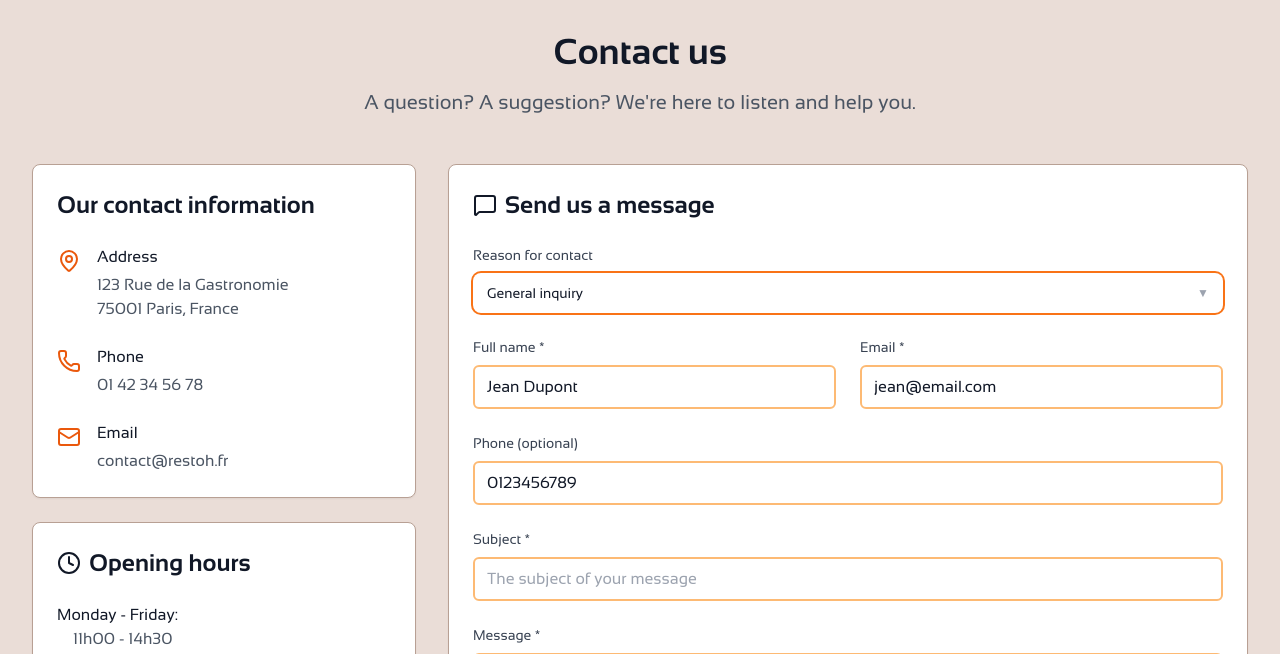
Test: Contact Component › should change contact reason when user selects different option
# Click to open dropdown
Click the text "General inquiry": coordinates (541, 293) [487,283,595,303]
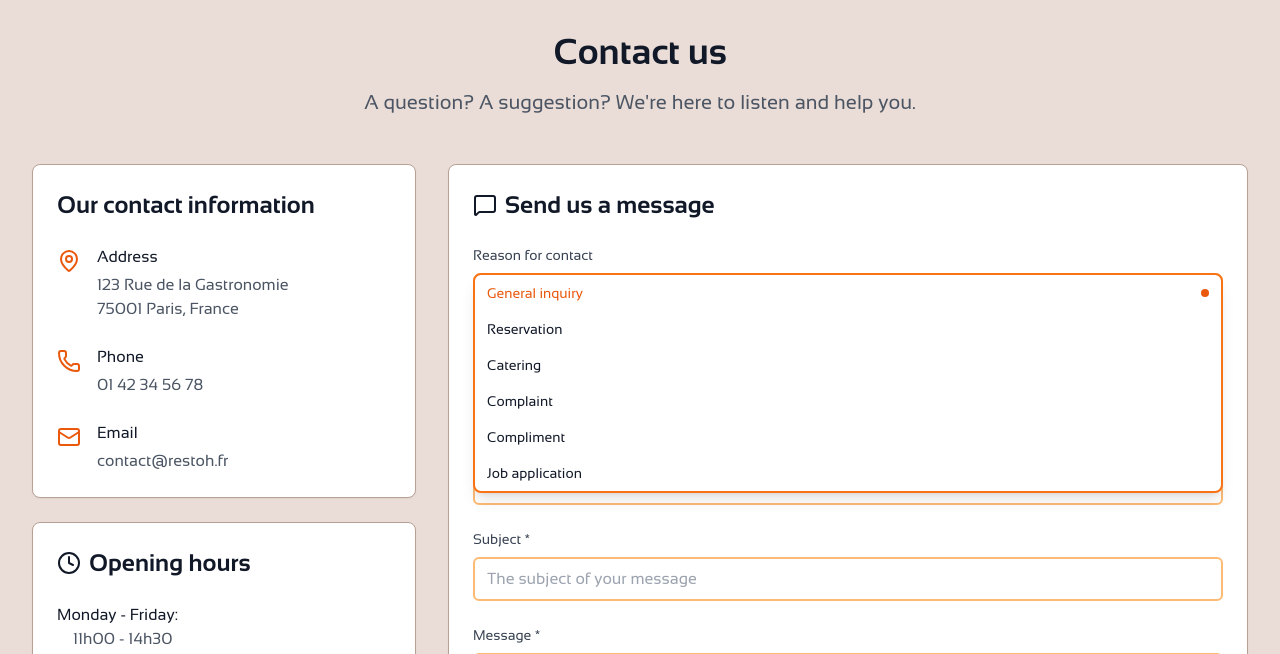
# Select reservation option
Click the text "Reservation": coordinates (525, 329) [487,319,562,339]
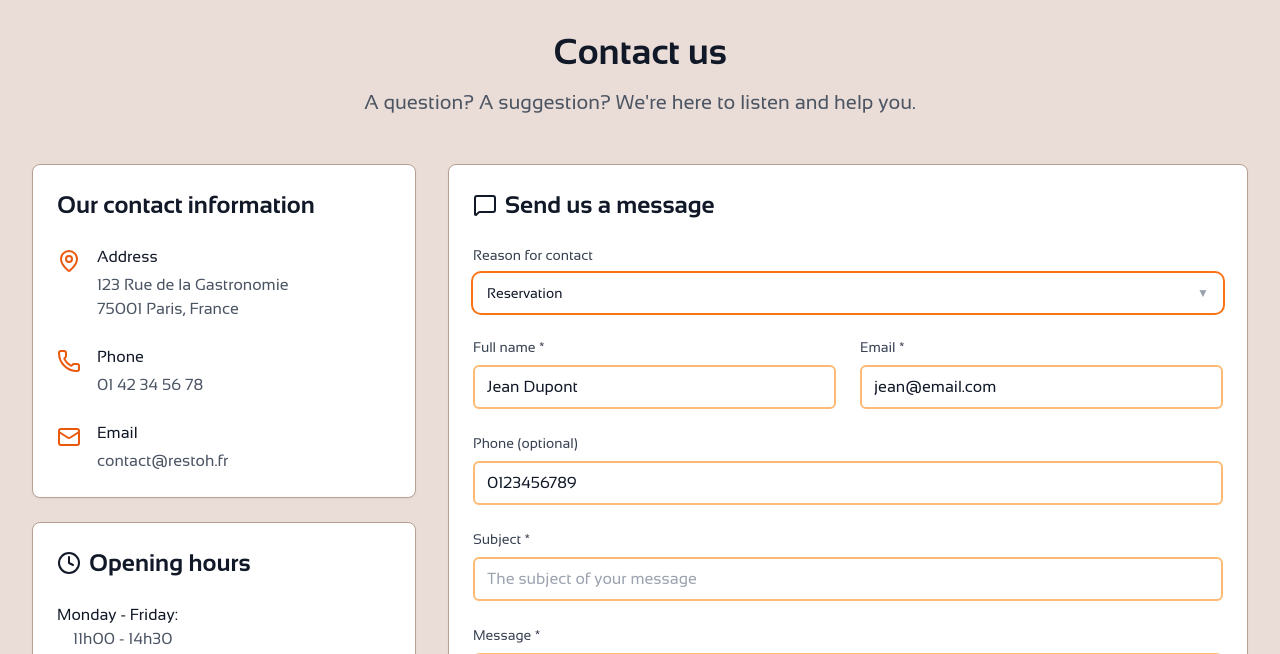
Result: the text "Reservation" is shown
# Click to open dropdown again
Click the text "Reservation": coordinates (531, 293) [487,283,574,303]
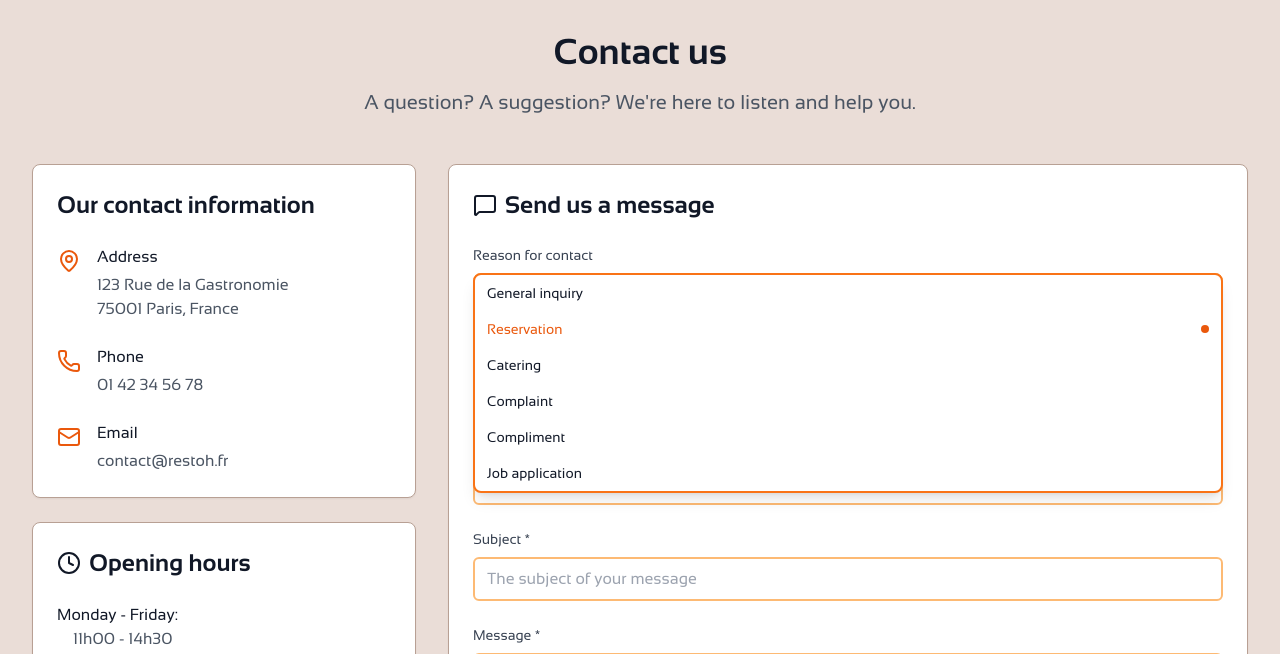
# Select complaint
Click the text "Complaint": coordinates (520, 401) [487,391,553,411]
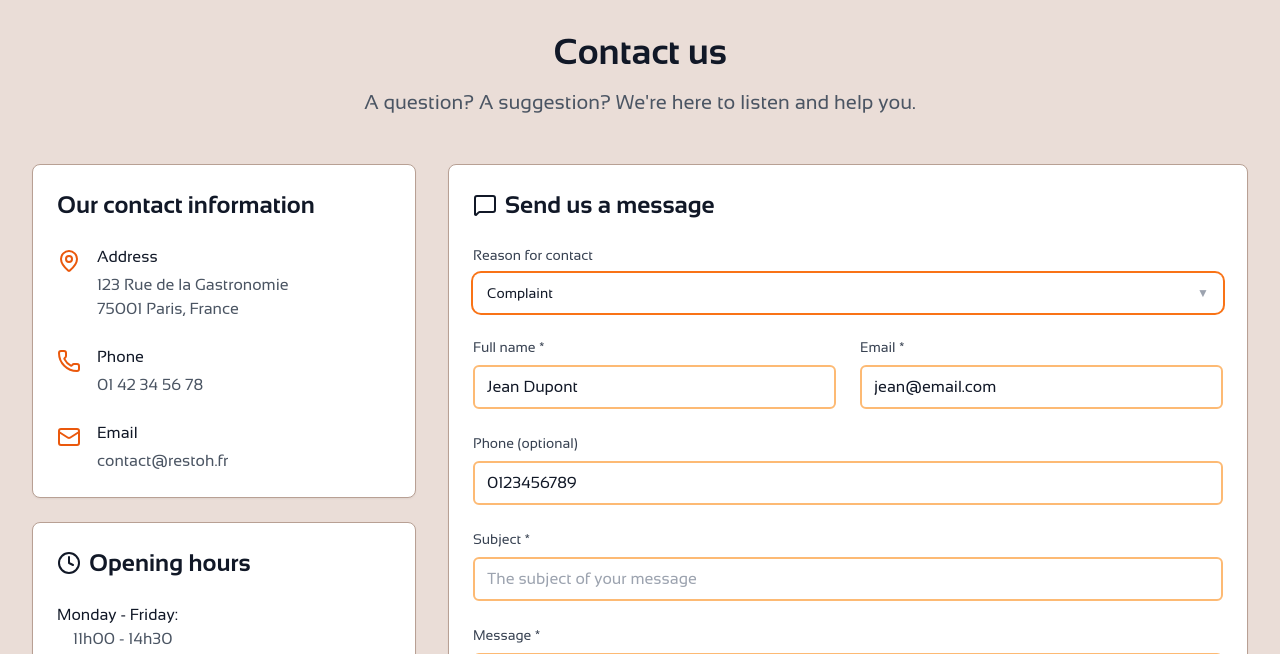
Result: the text "Complaint" is shown at [487,285,553,301]
